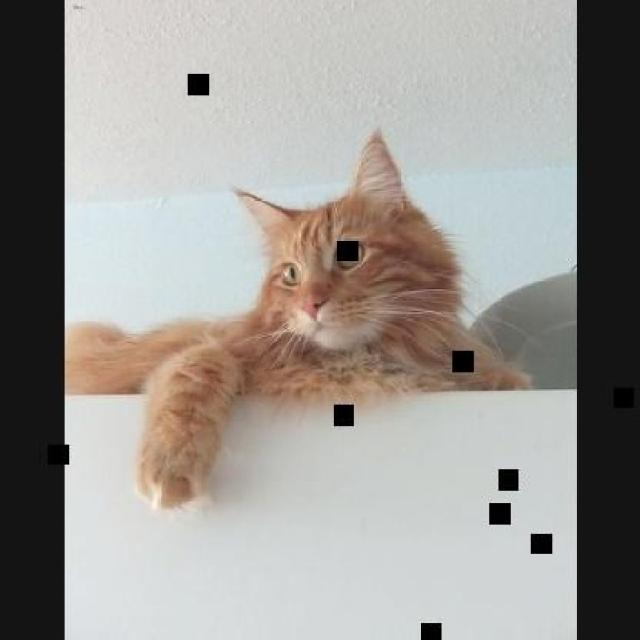unauthorized: (65, 126, 532, 511)
